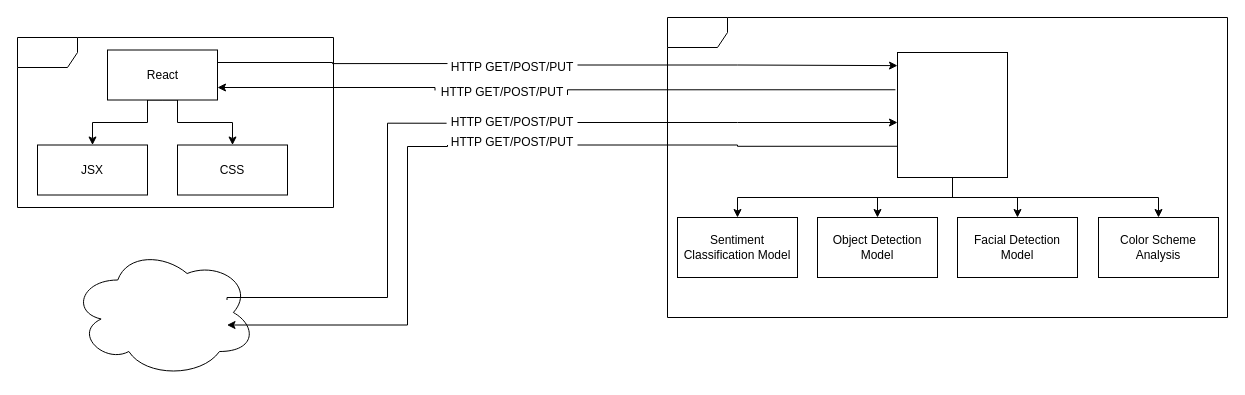
Some shapes in this 1245 by 395 pixel diagram are drawn without their labels. Each missing label, with the box of its shape:
Backend: (666, 16, 1228, 318)
FastAPI: (896, 52, 1008, 178)
Frontend: (16, 36, 334, 208)
Researcher's App: (70, 246, 256, 378)
